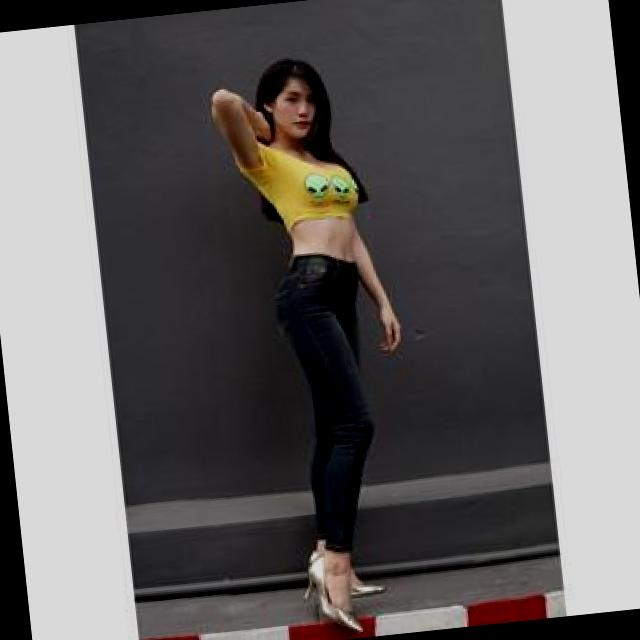pants: (264, 241, 394, 560)
